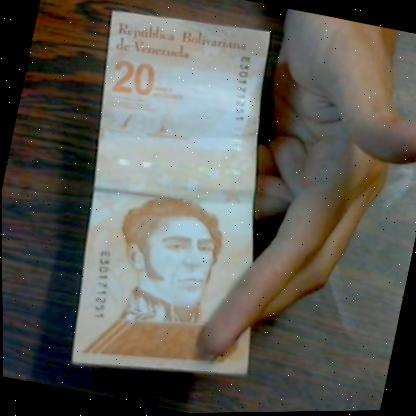vef_front: (23, 0, 416, 416)
